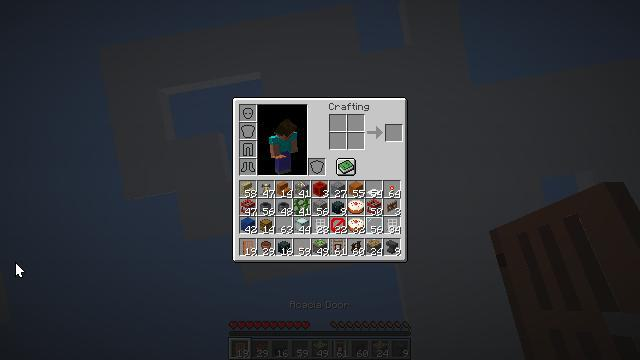cursor: (15, 262, 25, 278)
